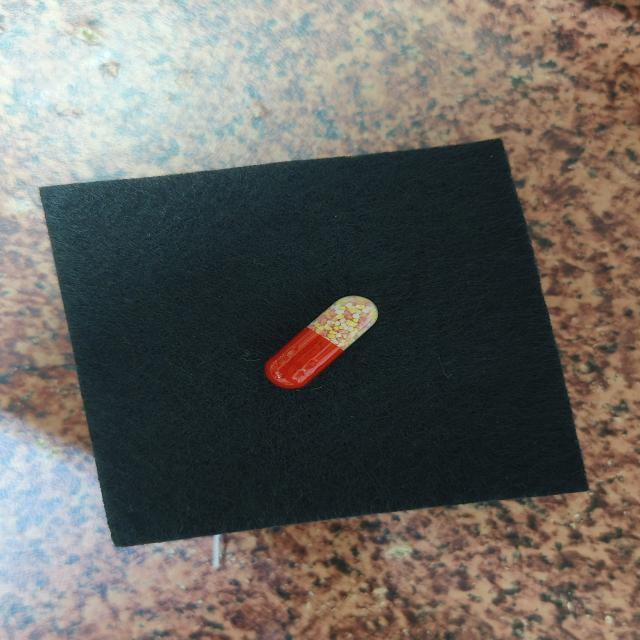Intact Capsule: (265, 295, 378, 389)
